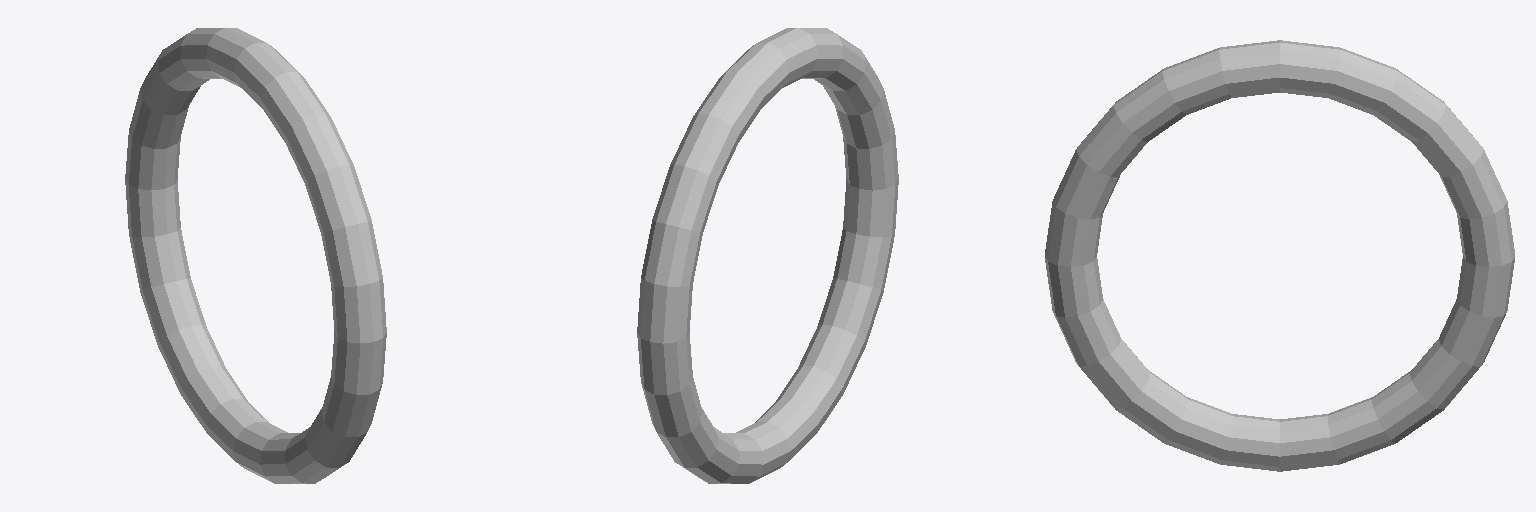
The model's file is RingV4.obj.
The picture shows the model from 3 angles: view 1: azimuth 30°, elevation 25°; view 2: azimuth 150°, elevation 25°; view 3: azimuth 270°, elevation 25°; orthographic projection.
Parts seen in each view (by area): view 1: Torus001; view 2: Torus001; view 3: Torus001.
Boxes of the visible parts, x1=… form: Torus001: x1=125, y1=28, x2=386, y2=483; Torus001: x1=637, y1=28, x2=898, y2=483; Torus001: x1=1045, y1=40, x2=1514, y2=471.
Bounding box in the file's own units: 0.2288 × 2.05 × 2.05.